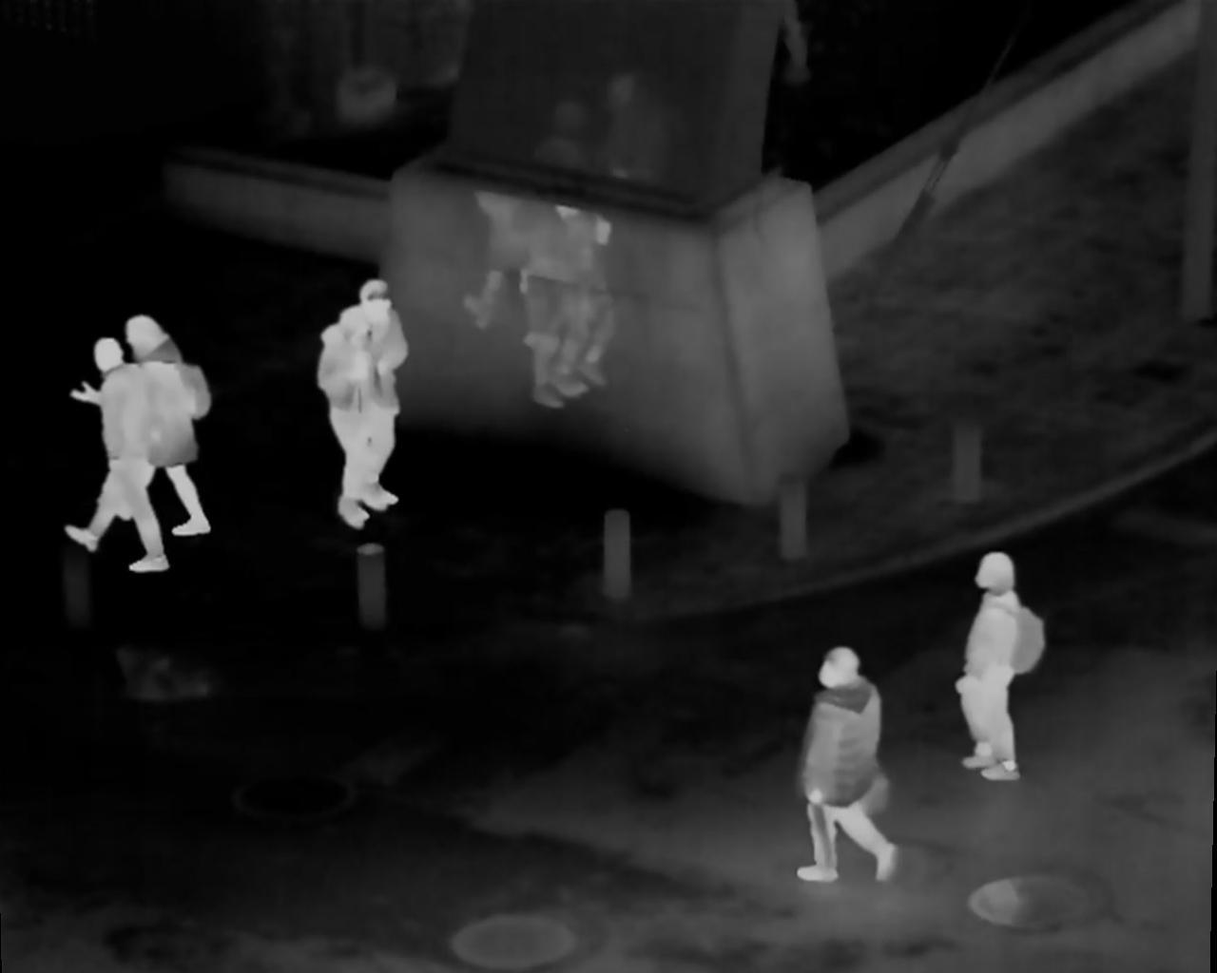person: (800, 653, 898, 889), (121, 315, 217, 547), (82, 335, 169, 588), (313, 303, 394, 529), (967, 547, 1033, 780), (364, 283, 415, 497)
